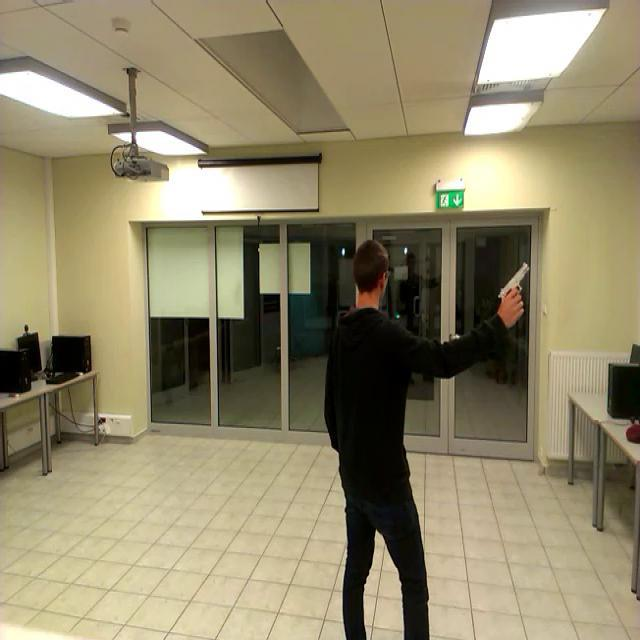Gun: (496, 260, 528, 310)
